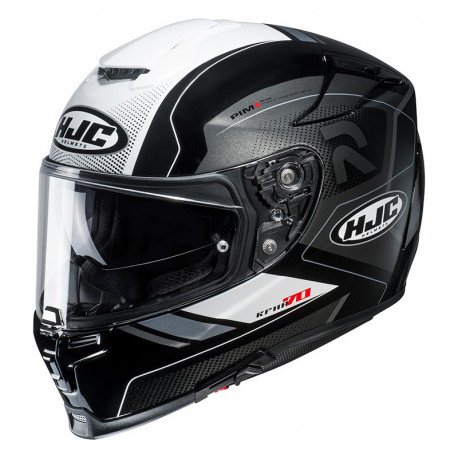with_helmet: (29, 14, 428, 443)
